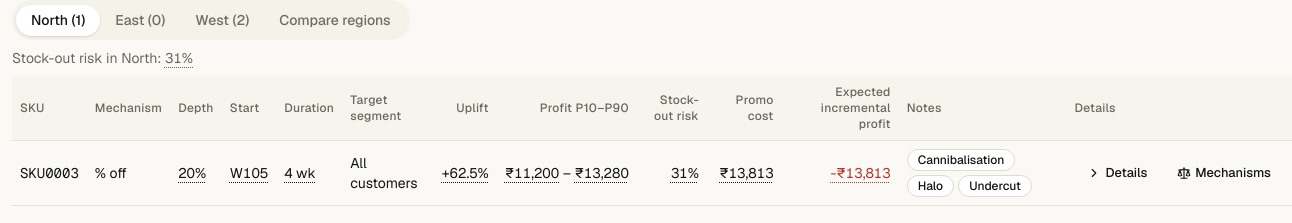
Scenario: RegionPlanTabs › says so for a region in the request with no plan line
Click the tab "East (0)" at (140, 20), box x1=100 y1=4 x2=180 y2=36
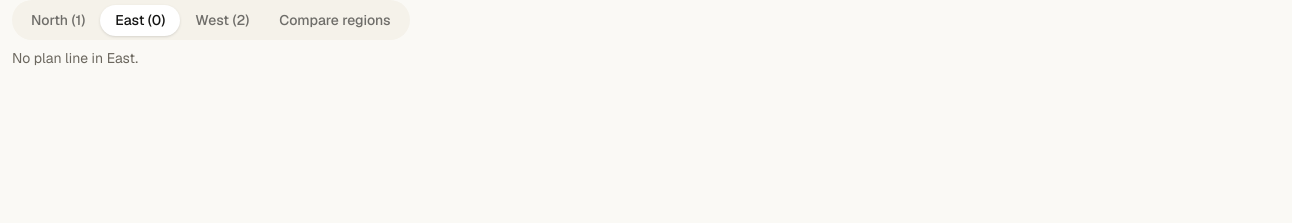
Result: the text "No plan line in East." is shown at x1=12 y1=49 x2=138 y2=67
